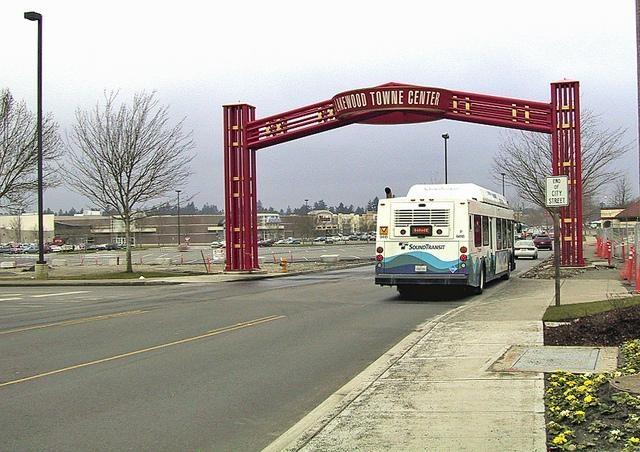bus: (372, 185, 516, 300)
car: (87, 236, 376, 250), (514, 240, 540, 260), (534, 235, 554, 251), (22, 246, 40, 254), (348, 235, 358, 242)
